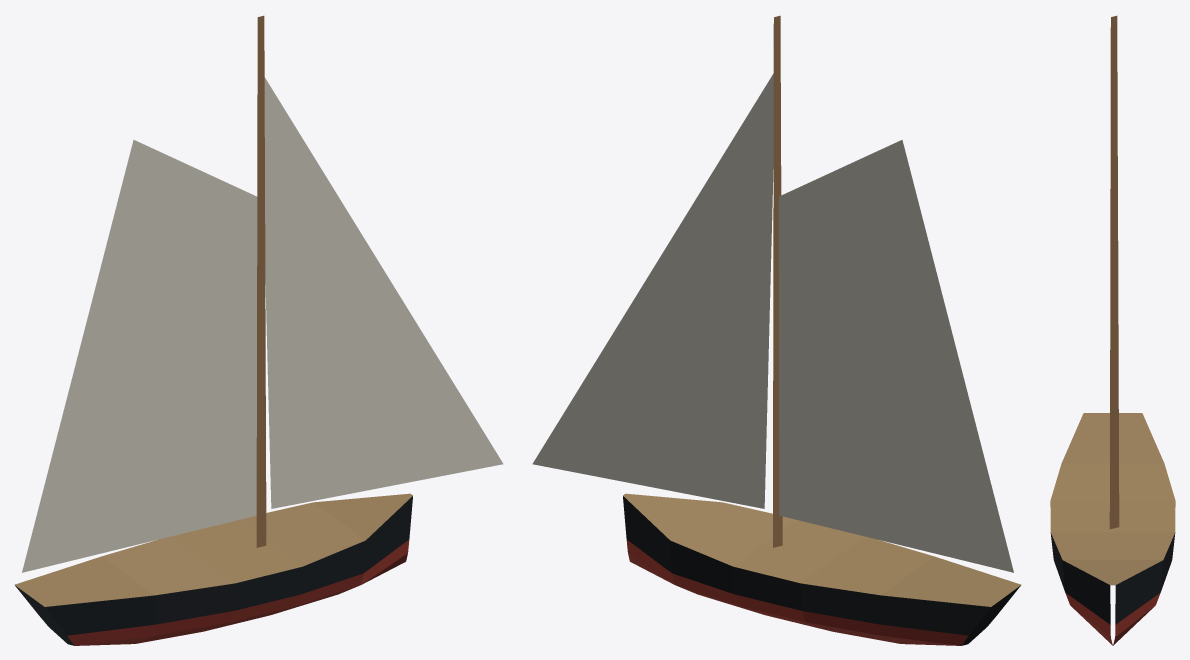
The model's file is hull_usd_cutter_medium_lod.glb.
3 views of the same model, side by side, from view 1: azimuth 30°, elevation 25°; view 2: azimuth 150°, elevation 25°; view 3: azimuth 270°, elevation 25° (orthographic). The views are drawn at different scales.
Visible parts, largest first — view 1: lod; view 2: lod; view 3: lod.
Boxes of the visible parts, <box> form: lod: <box>14,15,503,645</box>; lod: <box>532,15,1021,645</box>; lod: <box>1050,15,1175,645</box>.
Size of the model in its own units: 16.38 by 19.57 by 3.82.
